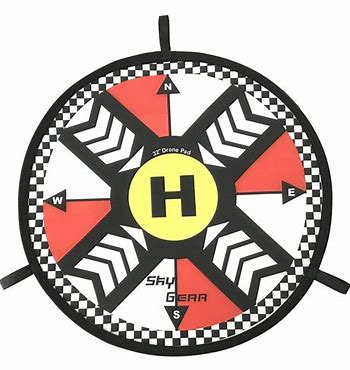H: (150, 176, 197, 218)
